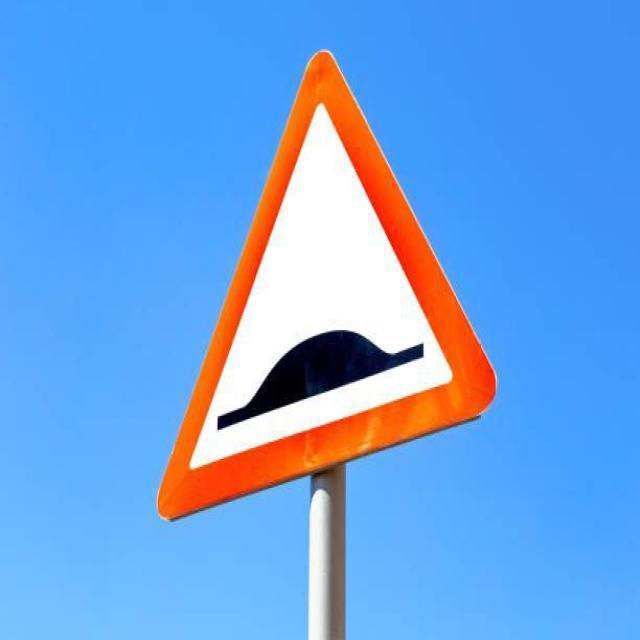hump or rough road: (158, 41, 518, 526)
